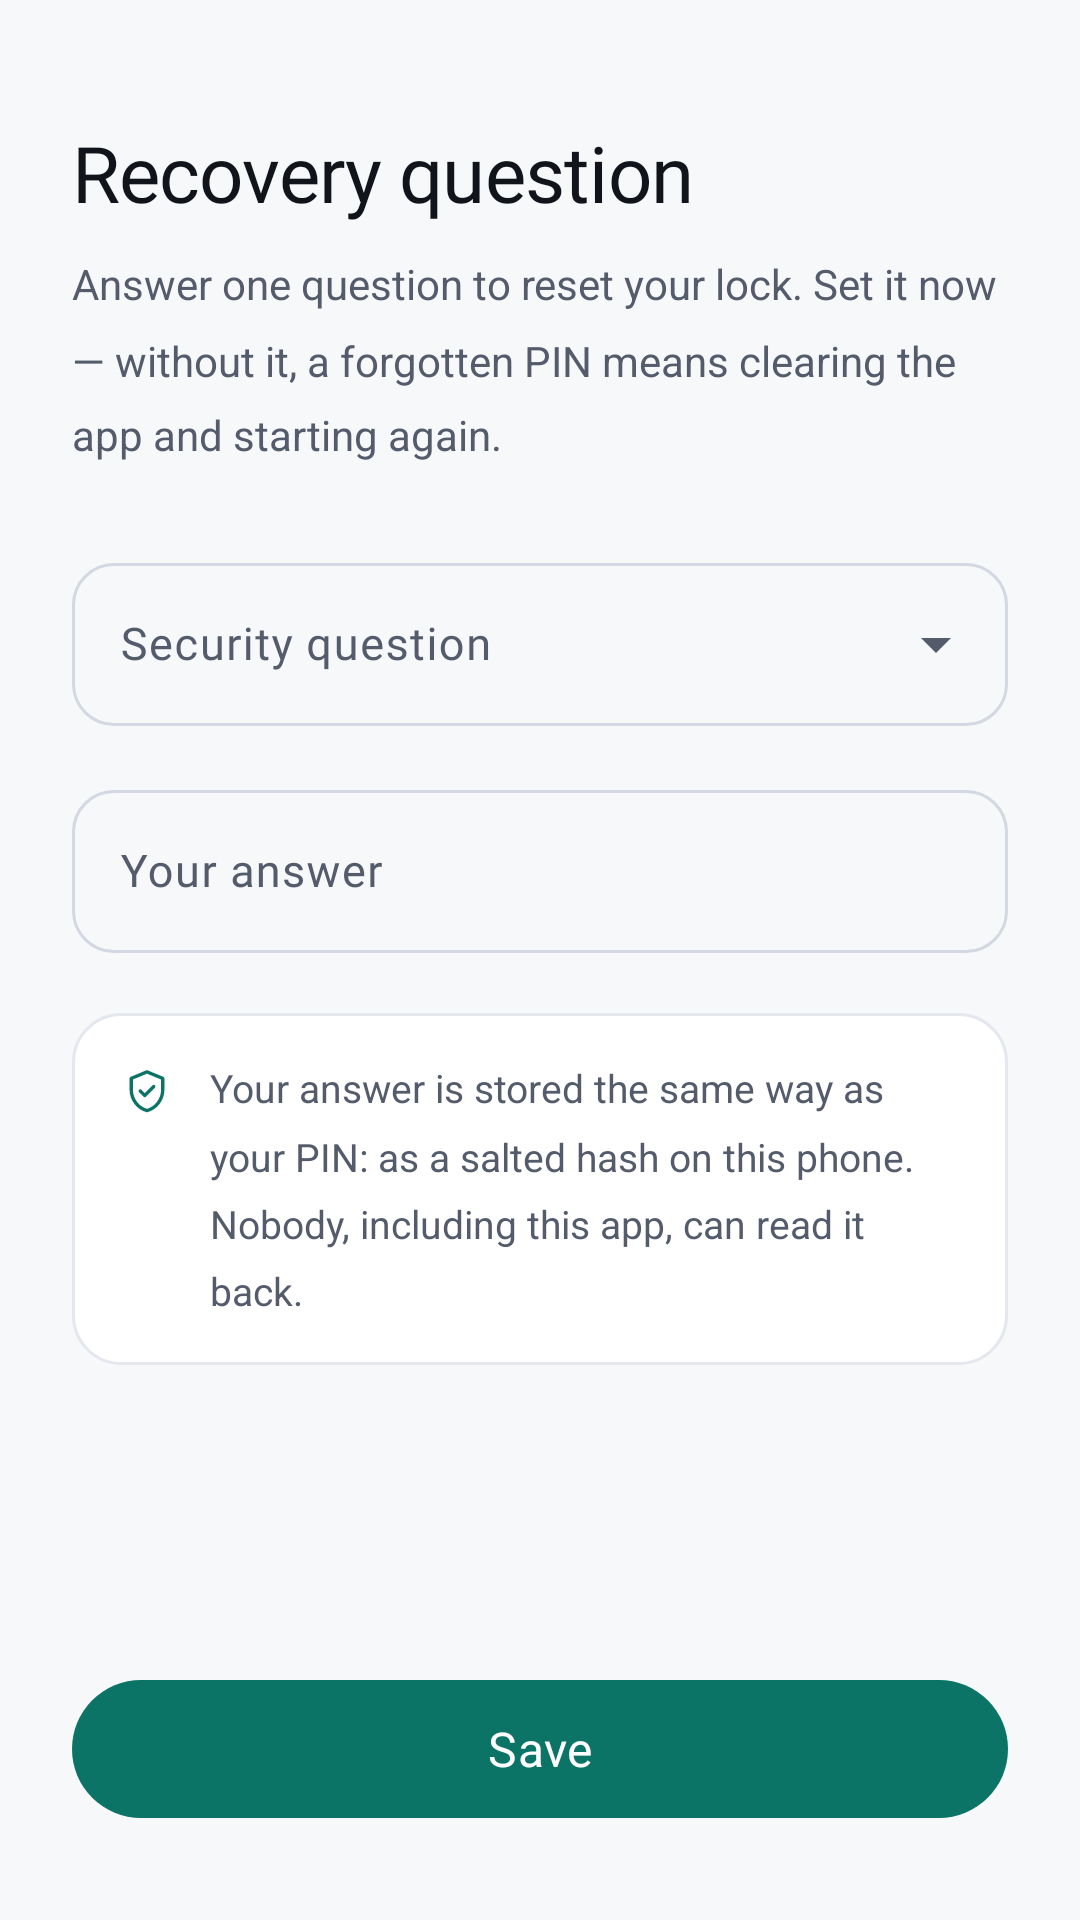

Icon bounding boxes for this 1080*1920 phone screenshot, format detection(x1, y1, x2, y2):
shield check: detection(129, 1070, 165, 1113)
